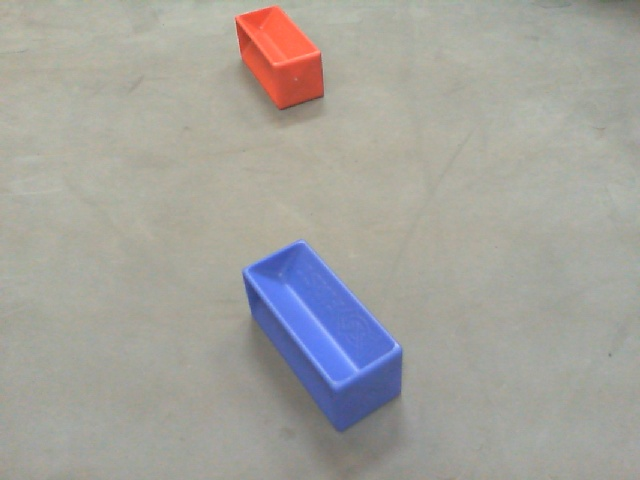BlueSample: (243, 234, 410, 433)
RedSample: (232, 1, 331, 117)
